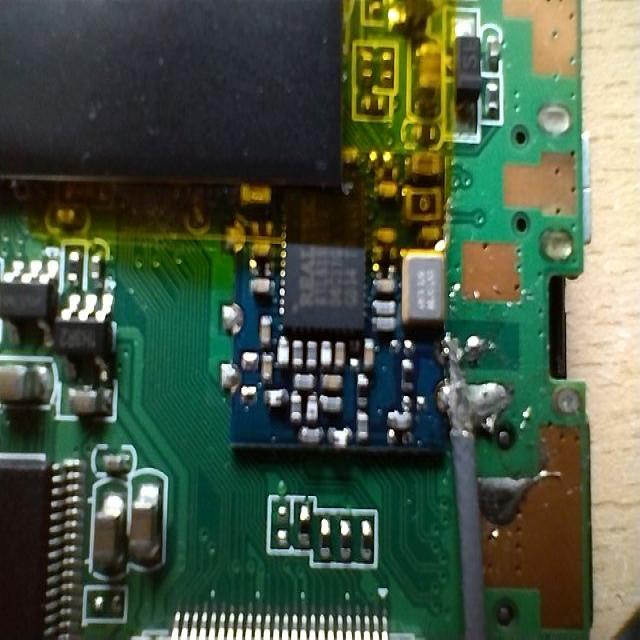capacitor: (79, 466, 136, 588), (127, 463, 175, 584), (405, 40, 451, 121), (393, 138, 457, 182)
resistor: (353, 499, 381, 571), (394, 350, 422, 392), (315, 502, 333, 566)
